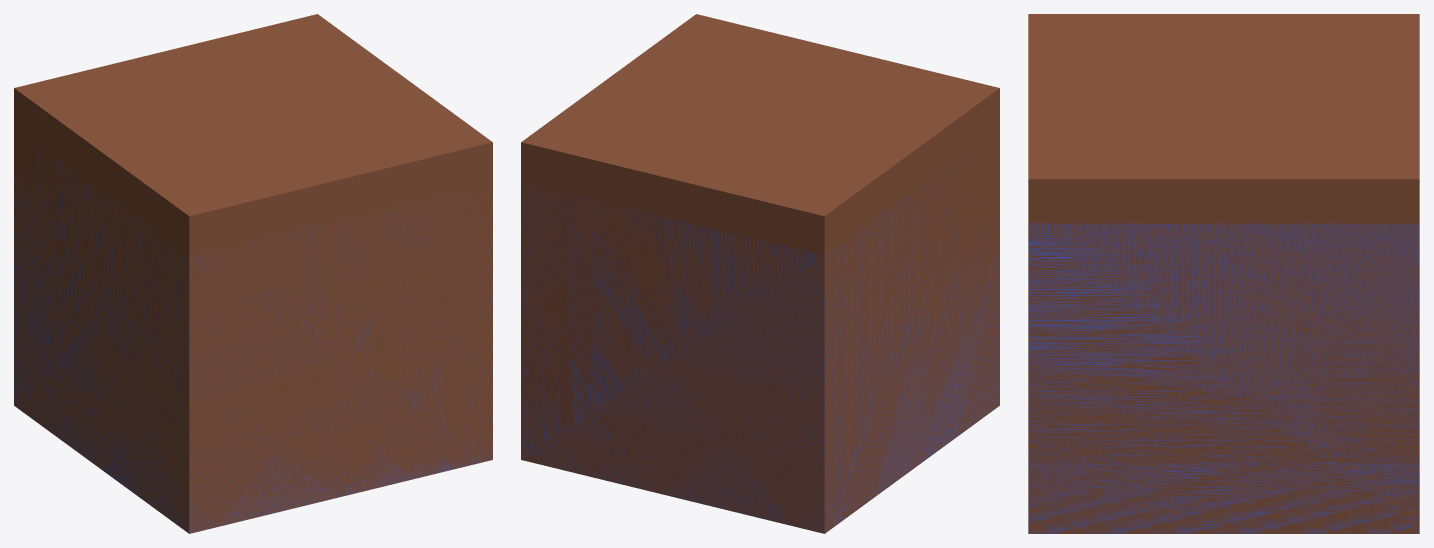
The model's file is Block.fbx.
The picture shows the model from 3 angles, left to right: view 1: azimuth 30°, elevation 25°; view 2: azimuth 150°, elevation 25°; view 3: azimuth 270°, elevation 25°; orthographic projection. The views are drawn at different scales.
Visible parts, largest first — view 1: Dirt-Back, Dirt-Left, Dirt-Top, Water-Surface-Left, Water-Surface-Back; view 2: Dirt-For, Dirt-Left, Dirt-Top, Water-Surface-For, Water-Surface-Left; view 3: Dirt-Right, Water-Surface-Right, Dirt-Top.
Boxes of the visible parts, x1,y1,x2,y2 form: Dirt-Back: (189,142,492,533); Dirt-Left: (14,88,189,533); Dirt-Top: (14,14,492,216); Water-Surface-Left: (14,145,189,532); Water-Surface-Back: (189,195,492,532); Dirt-For: (521,142,824,533); Dirt-Left: (824,88,999,533); Dirt-Top: (521,14,999,216); Water-Surface-For: (521,184,824,532); Water-Surface-Left: (824,166,999,532); Dirt-Right: (1028,179,1419,533); Water-Surface-Right: (1028,223,1419,533); Dirt-Top: (1028,14,1419,179).
Bounding box in the file's own units: 1 × 1 × 1.
1 material, 1 textured.
